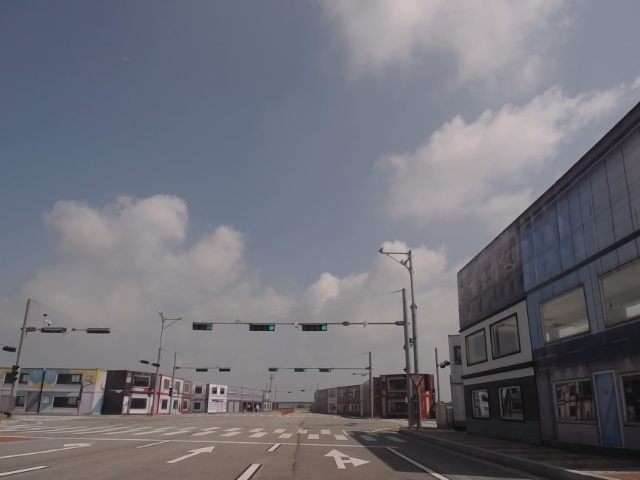straight_green_4: (303, 323, 328, 332), (249, 323, 275, 331)
